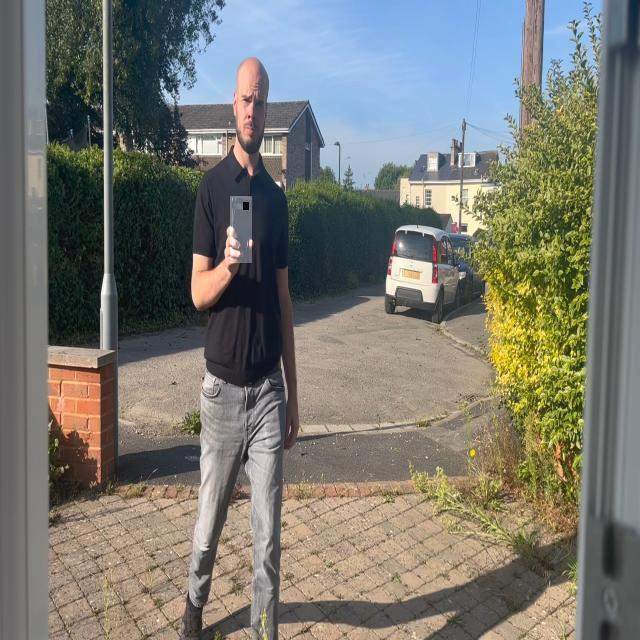lens: (243, 202, 249, 210)
phone: (230, 196, 252, 263)
